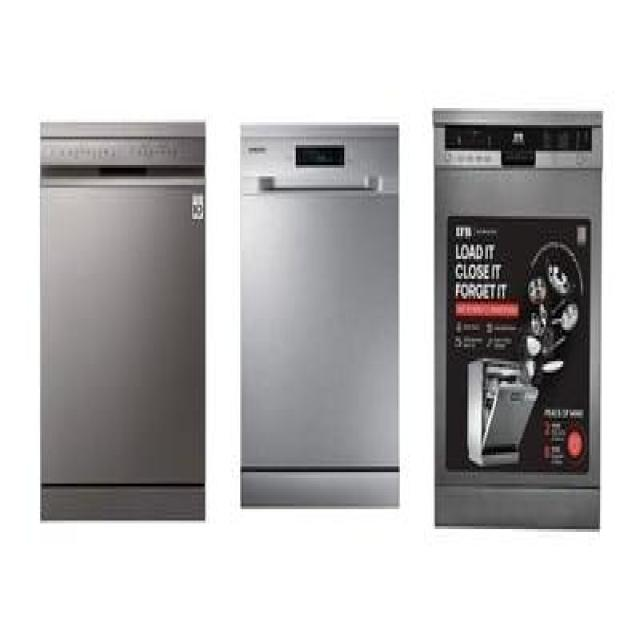dishwasher: (40, 117, 208, 521), (238, 118, 402, 510)
